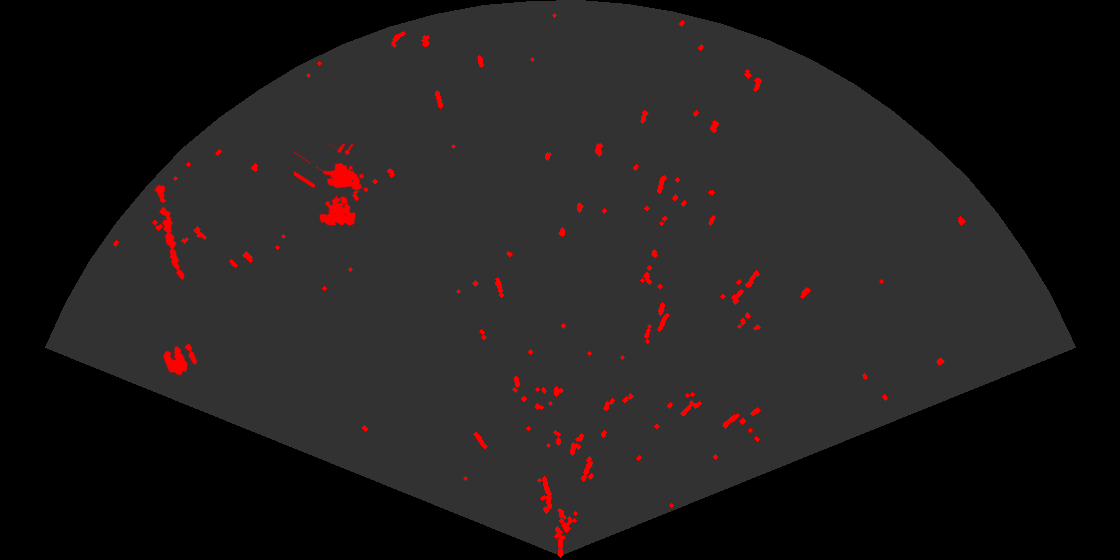ball: (162, 342, 199, 377)
cage: (294, 144, 370, 228)
chain: (153, 182, 186, 282)
